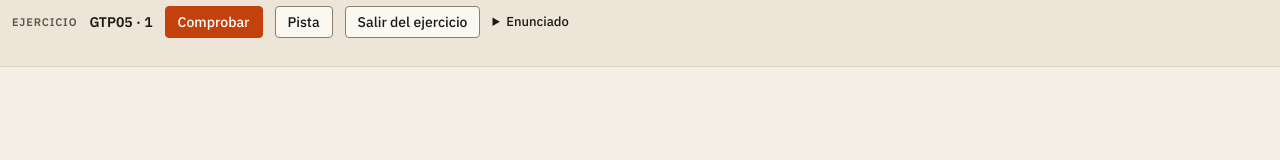
Test: ExerciseBar › bucle infinito: avisa y la página sigue respondiendo
The width and height of the screenshot is (1280, 160).
Click the button "Comprobar": point(214, 22) [165, 6, 262, 38]
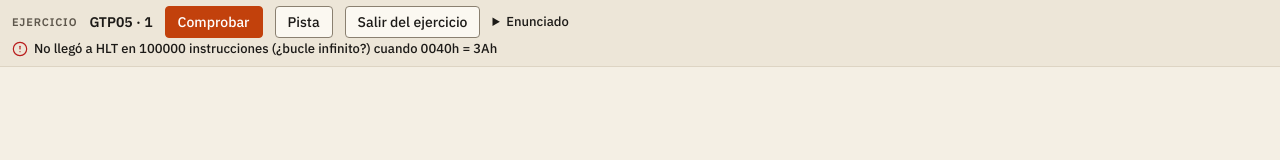
Check: the message shows "No llegó a HLT", box [34, 40, 497, 57]
